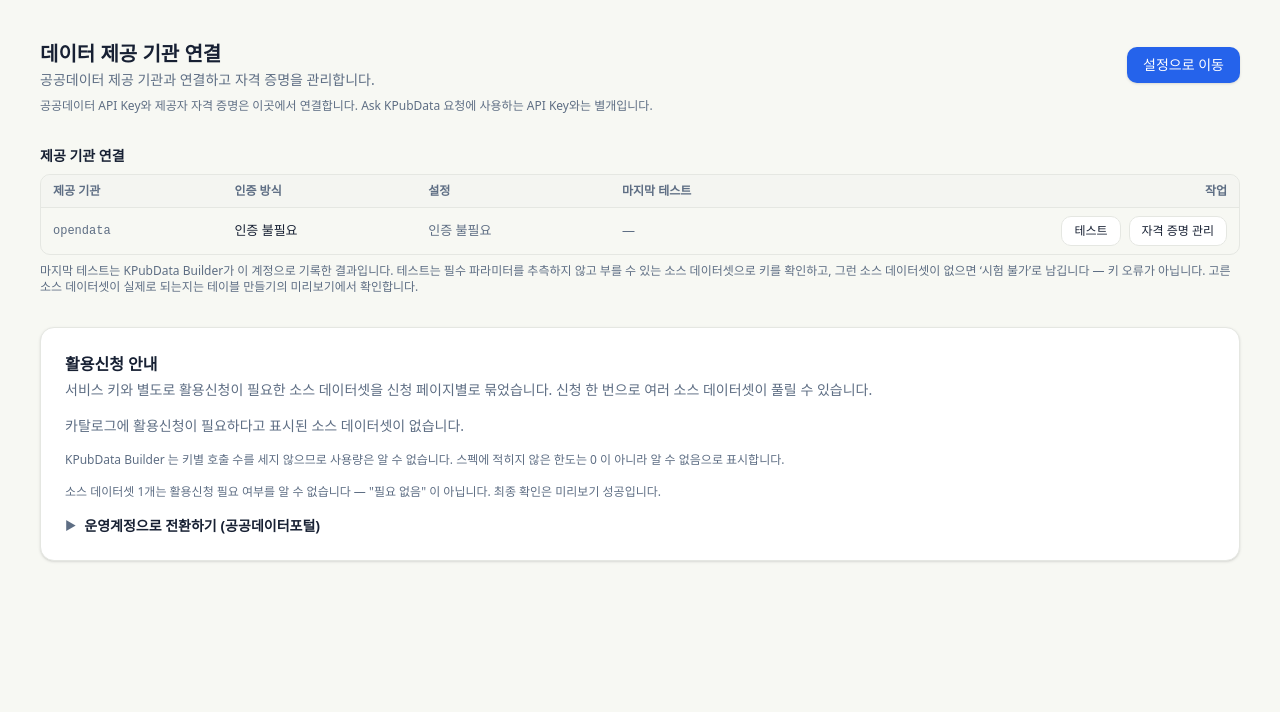
it: ProviderPage real mode (#S01) › requires_credential=false → no masked key, no Delete, no register form
Click the text "opendata": {"x": 82, "y": 231} [53,224,111,238]
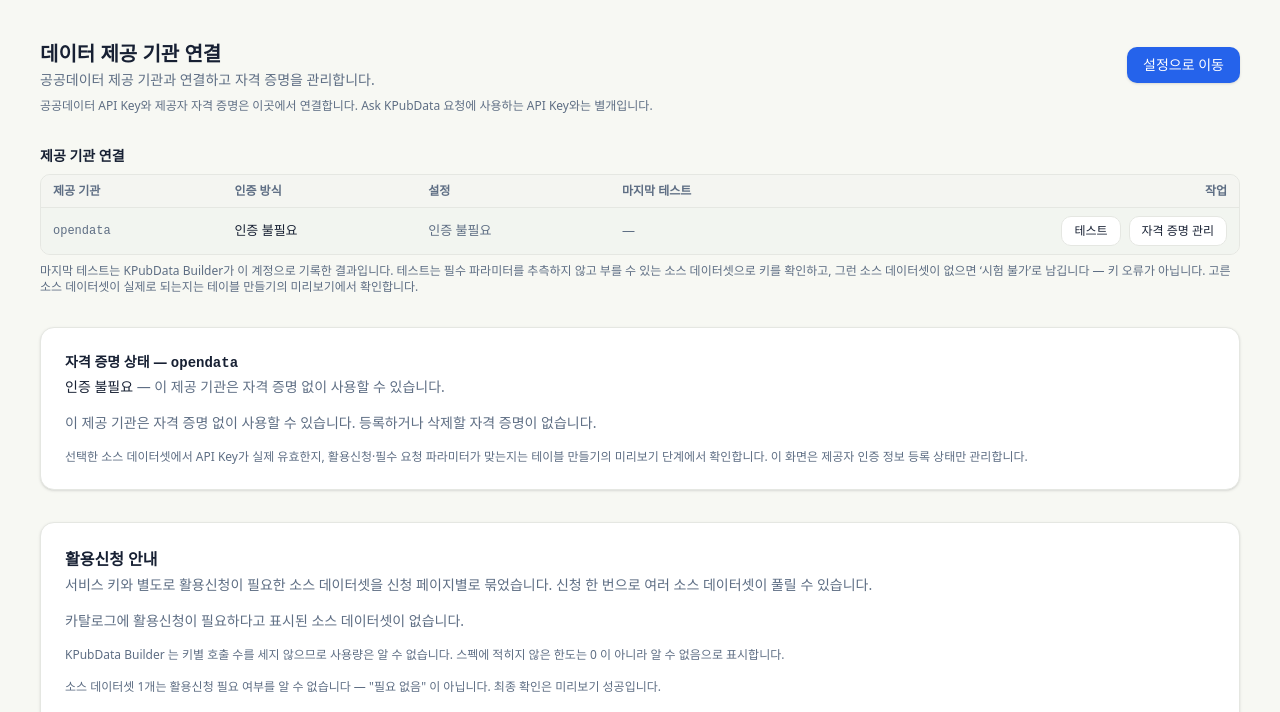
Result: the text "이 제공 기관은 자격 증명 없이 사용할 수 있습니다. 등록하거나 삭제할 자격 증명이 없습니다." is shown at [65,413,596,432]
